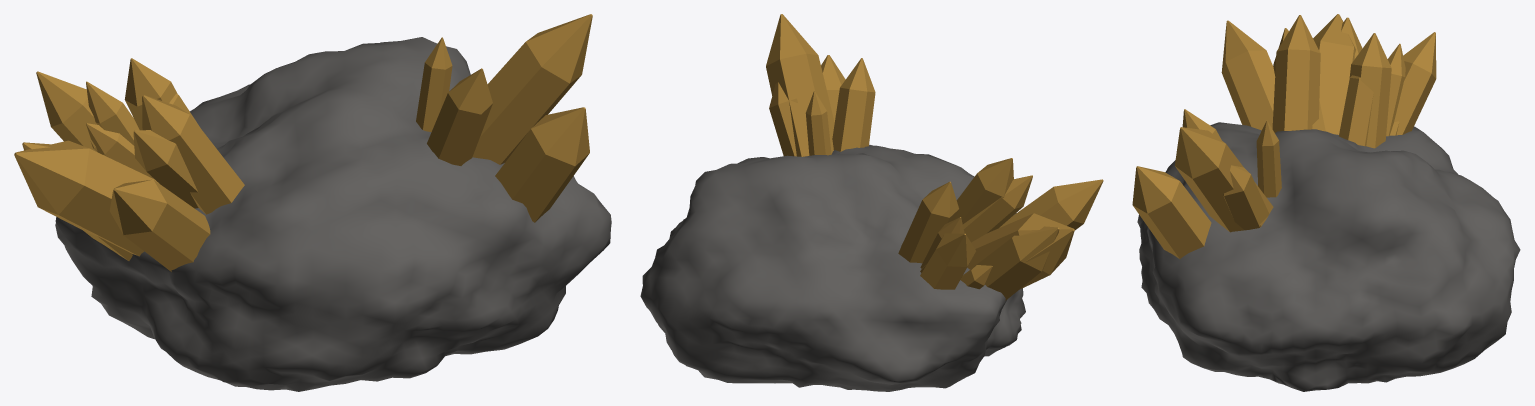
The model's file is sphalerite_deep.glb.
3 views of the same model, side by side, from view 1: azimuth 30°, elevation 25°; view 2: azimuth 150°, elevation 25°; view 3: azimuth 270°, elevation 25° (orthographic). The views are drawn at different scales.
Visible parts, largest first — view 1: sphalerite_deep; view 2: sphalerite_deep; view 3: sphalerite_deep.
Part boxes in pixels (x1,y1,x2,y2): sphalerite_deep: (14, 14, 611, 391); sphalerite_deep: (640, 14, 1103, 391); sphalerite_deep: (1132, 14, 1520, 391).
Size of the model in its own units: 2.3 by 1.33 by 1.8.
